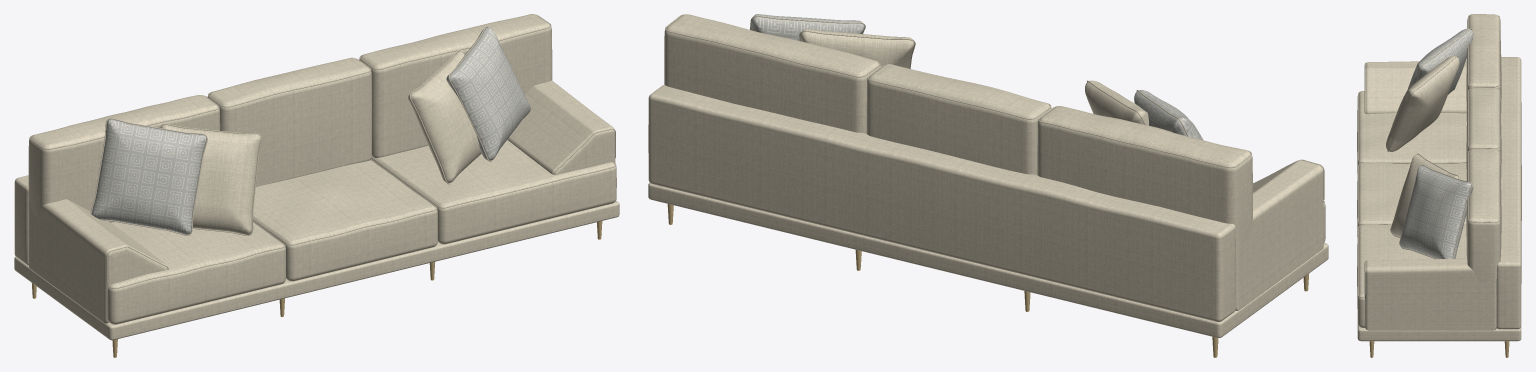
The model's file is straight.glb.
The picture shows the model from 3 angles, left to right: view 1: azimuth 30°, elevation 25°; view 2: azimuth 150°, elevation 25°; view 3: azimuth 270°, elevation 25°; orthographic projection. The views are drawn at different scales.
Parts seen in each view (by area): view 1: fabric (×2), pillows (×3); view 2: fabric (×2), pillows (×3), legs; view 3: fabric (×2), pillows (×3), legs.
Boxes of the visible parts, x1,y1,x2,y2 form: fabric (×2): [14, 14, 619, 340]; pillows (×3): [90, 26, 530, 235]; fabric (×2): [648, 14, 1328, 337]; pillows (×3): [750, 14, 1203, 140]; legs: [667, 204, 1308, 357]; fabric (×2): [1357, 14, 1521, 341]; pillows (×3): [1386, 28, 1473, 258]; legs: [1369, 341, 1509, 357].
Size of the model in its own units: 3 by 1.02 by 0.9993.
Materials: 4 (3 with a texture image).
